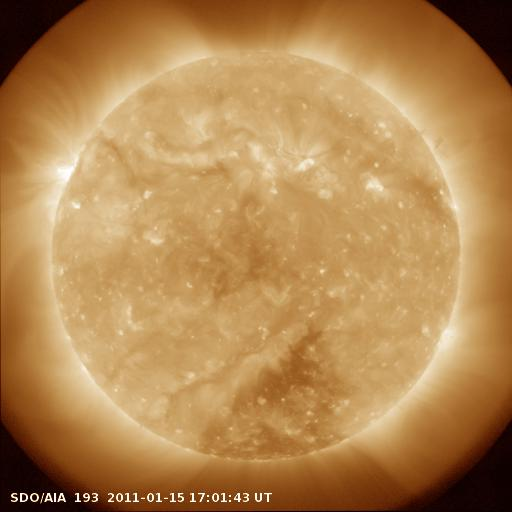coronal_hole: (203, 321, 335, 463)
